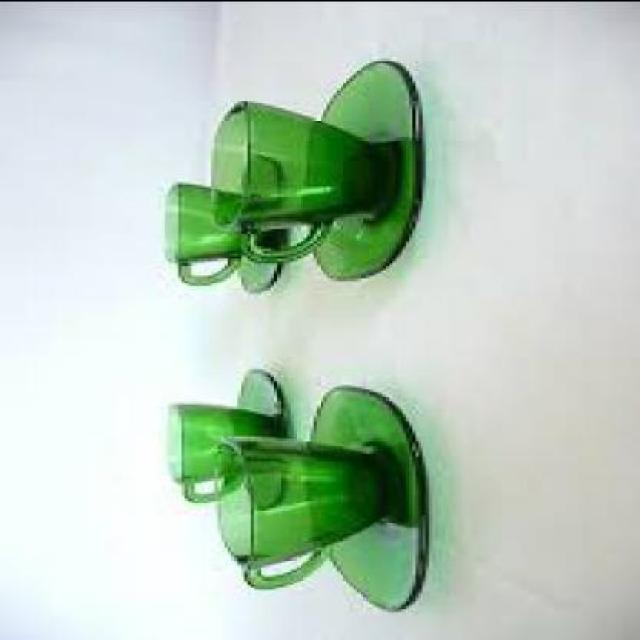GLASS: (303, 383, 426, 611), (208, 99, 383, 259), (212, 432, 396, 583), (300, 57, 415, 277), (158, 180, 260, 282), (162, 398, 264, 499), (231, 365, 284, 507), (231, 151, 284, 289)
